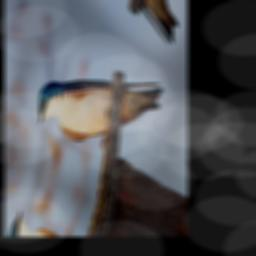Swallow: (34, 22, 165, 184)
